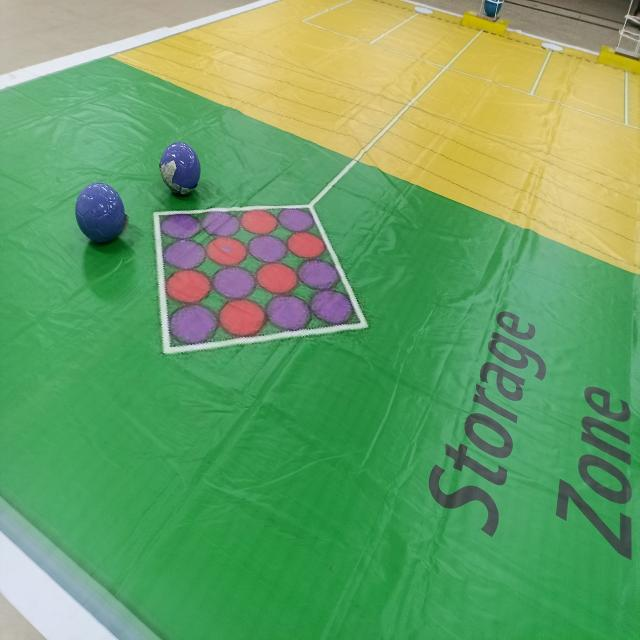purple_ball: (75, 182, 126, 246), (160, 140, 200, 197)
